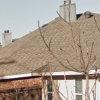Chimney: (3, 24, 15, 50)
